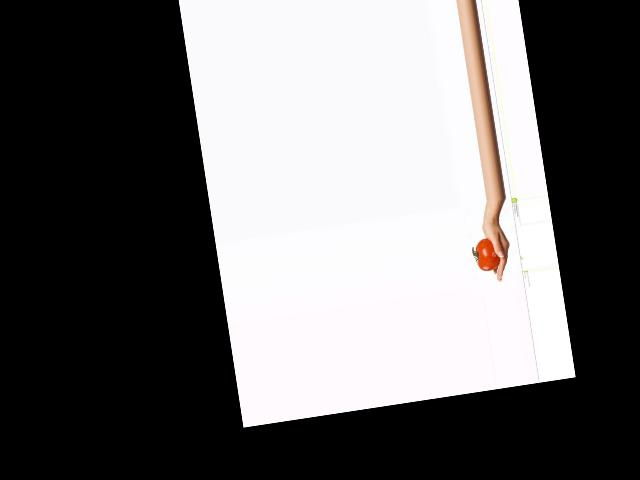tomato: (474, 237, 501, 272)
